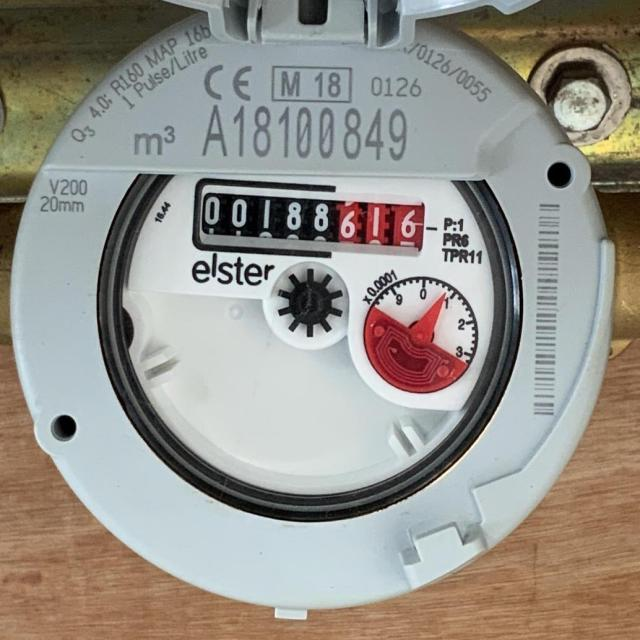gaz_meter: (120, 174, 499, 500)
indication: (199, 187, 425, 256)
